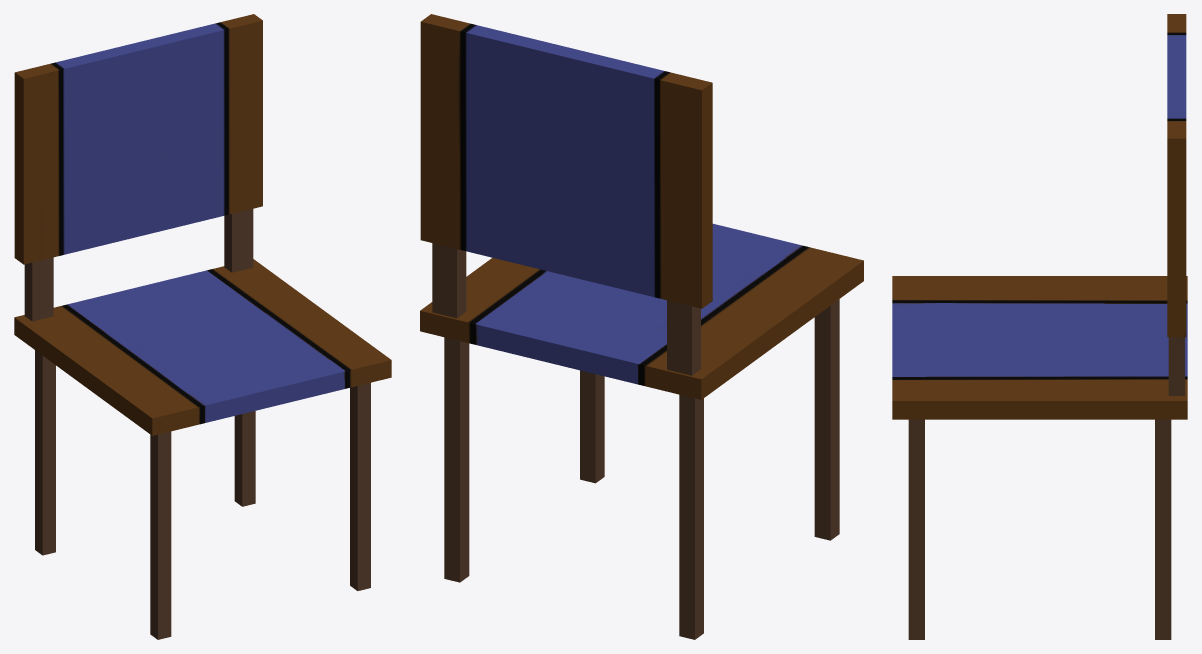
File: chair.fbx
3 views of the same model, side by side, from view 1: azimuth 30°, elevation 25°; view 2: azimuth 150°, elevation 25°; view 3: azimuth 270°, elevation 25° (orthographic). The views are drawn at different scales.
Visible parts, largest first — view 1: back, butt, leg2, leg4, leg3, leg1, back_leg1, back_leg2; view 2: back, butt, leg1, leg3, leg2, leg4, back_leg1, back_leg2; view 3: butt, back, leg1, leg4, back_leg1.
Boxes of the visible parts, bbox=[...] form: back: bbox=[14, 14, 262, 264]; butt: bbox=[14, 259, 391, 435]; leg2: bbox=[150, 431, 171, 639]; leg4: bbox=[350, 382, 370, 590]; leg3: bbox=[35, 350, 55, 555]; leg1: bbox=[234, 411, 255, 506]; back_leg1: bbox=[224, 209, 253, 272]; back_leg2: bbox=[24, 257, 53, 321]; back: bbox=[420, 14, 712, 308]; butt: bbox=[420, 223, 863, 399]; leg1: bbox=[444, 337, 469, 582]; leg3: bbox=[679, 394, 703, 639]; leg2: bbox=[814, 299, 839, 540]; leg4: bbox=[580, 370, 604, 483]; back_leg1: bbox=[432, 243, 466, 318]; back_leg2: bbox=[667, 300, 700, 375]; butt: bbox=[892, 276, 1187, 419]; back: bbox=[1167, 14, 1186, 337]; leg1: bbox=[1155, 419, 1171, 639]; leg4: bbox=[908, 419, 924, 639]; back_leg1: bbox=[1168, 337, 1184, 395].
Bounding box in the file's own units: 216 × 410 × 216.
3 materials, 2 textured.
